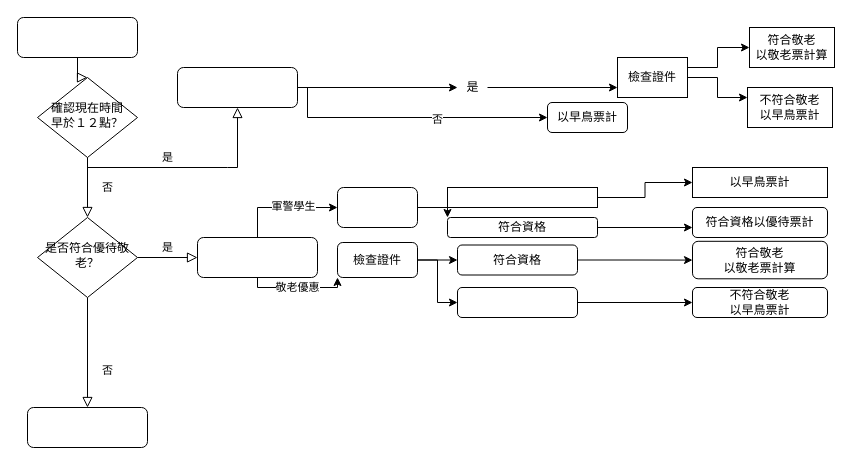
The diagram is 852 pixels wide and 465 high, and some of its shapes have lost their labels. Here are the shapes that lost their labels. From the top down, the centre of each, then its label:
pixel 77 37: 客人來了
pixel 237 87: 是否符合敬老？
pixel 377 207: 檢查 證件或身高
pixel 522 197: 不符合優待政策
pixel 257 257: 詢問客人 是優待還是敬老？
pixel 517 302: 不符合資格
pixel 87 427: 全票
